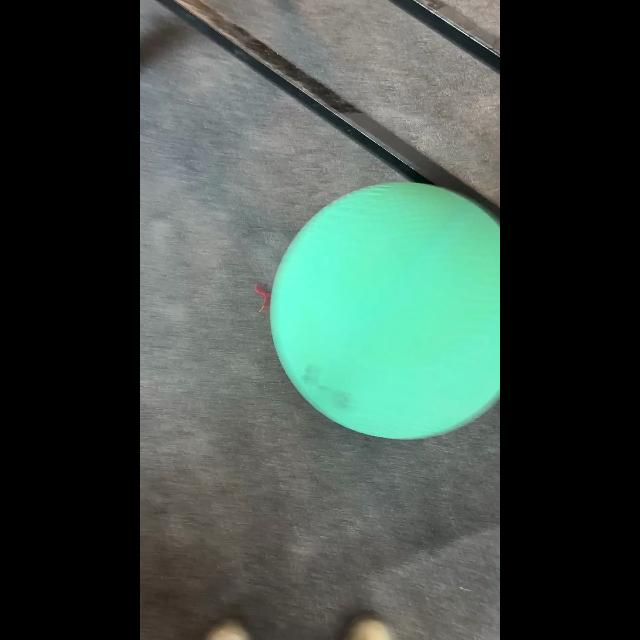ALGAE: (268, 180, 500, 440)
